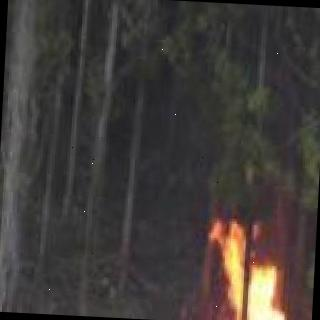fire: (168, 227, 316, 320)
